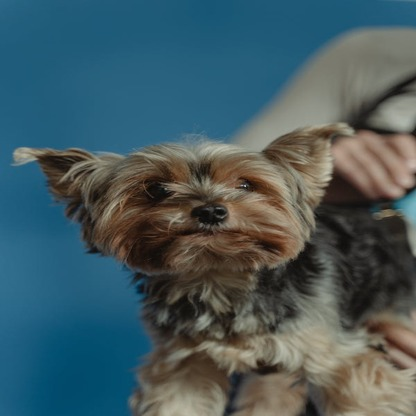yorkshire: (14, 121, 416, 408)
